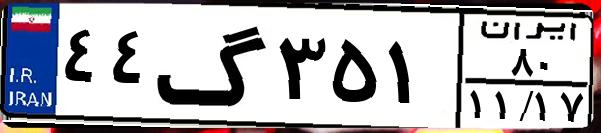0: (537, 27, 568, 80)
1: (385, 28, 445, 110), (470, 70, 495, 125), (495, 70, 520, 125), (535, 70, 560, 125)
3: (270, 28, 330, 110)
4: (57, 26, 110, 100), (110, 28, 156, 98)
5: (330, 28, 385, 110)
7: (560, 70, 590, 125)
8: (508, 27, 537, 80)
گ: (156, 12, 270, 120)
